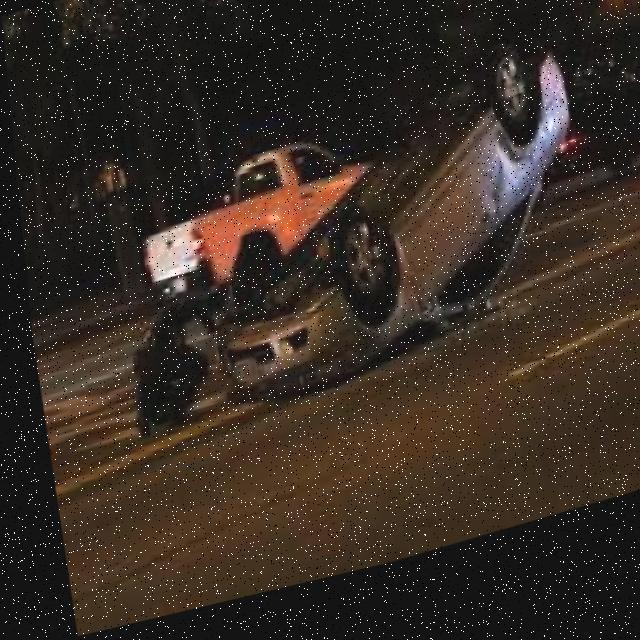Car Accident Detector - v4 Generation1 Exported: (179, 50, 594, 432)
